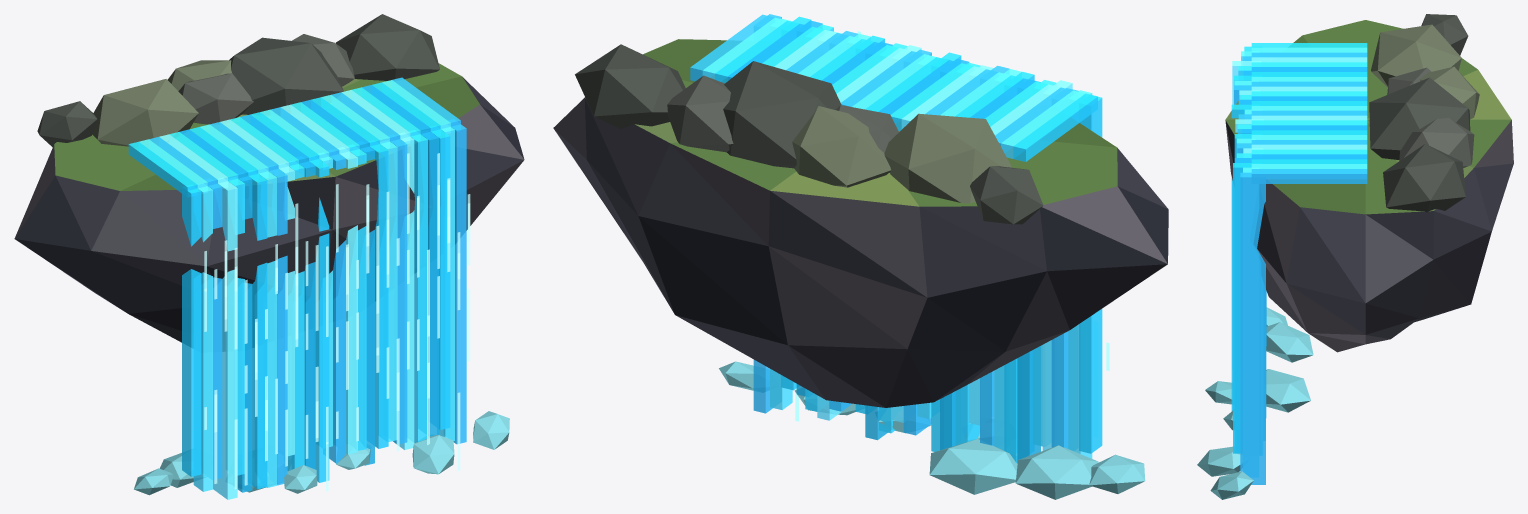
Rendered from wide-waterfall.glb.
The picture shows the model from 3 angles, left to right: view 1: azimuth 30°, elevation 25°; view 2: azimuth 150°, elevation 25°; view 3: azimuth 270°, elevation 25°; orthographic projection. The views are drawn at different scales.
Visible parts, largest first — view 1: Wide_Waterfall; view 2: Wide_Waterfall; view 3: Wide_Waterfall.
Boxes of the visible parts, x1=… form: Wide_Waterfall: x1=14, y1=14, x2=524, y2=499; Wide_Waterfall: x1=553, y1=14, x2=1168, y2=499; Wide_Waterfall: x1=1197, y1=14, x2=1513, y2=499.
Size of the model in its own units: 3.53 by 2.53 by 1.97.
